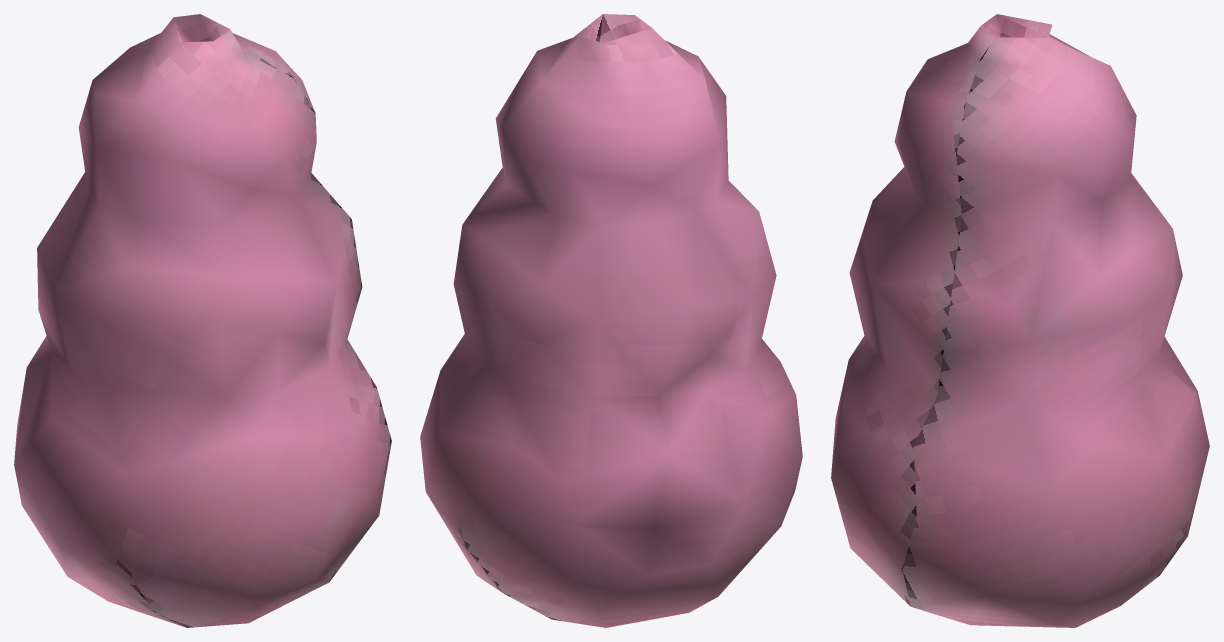
Rendered from Kong_Puppy_Teething_Rubber_Small_Pink-low.glb.
The picture shows the model from 3 angles, left to right: view 1: azimuth 30°, elevation 25°; view 2: azimuth 150°, elevation 25°; view 3: azimuth 270°, elevation 25°; orthographic projection.
Visible parts, largest first — view 1: Kong_Puppy_Teething_Rubber_Small_Pink; view 2: Kong_Puppy_Teething_Rubber_Small_Pink; view 3: Kong_Puppy_Teething_Rubber_Small_Pink.
Part boxes in pixels (box(x1,y1,x2,y2)): Kong_Puppy_Teething_Rubber_Small_Pink: box(14, 14, 391, 627); Kong_Puppy_Teething_Rubber_Small_Pink: box(420, 14, 802, 627); Kong_Puppy_Teething_Rubber_Small_Pink: box(831, 14, 1209, 627).
Bounding box in the file's own units: 0.0427 × 0.0715 × 0.0434.
Materials: 1 (1 with a texture image).
